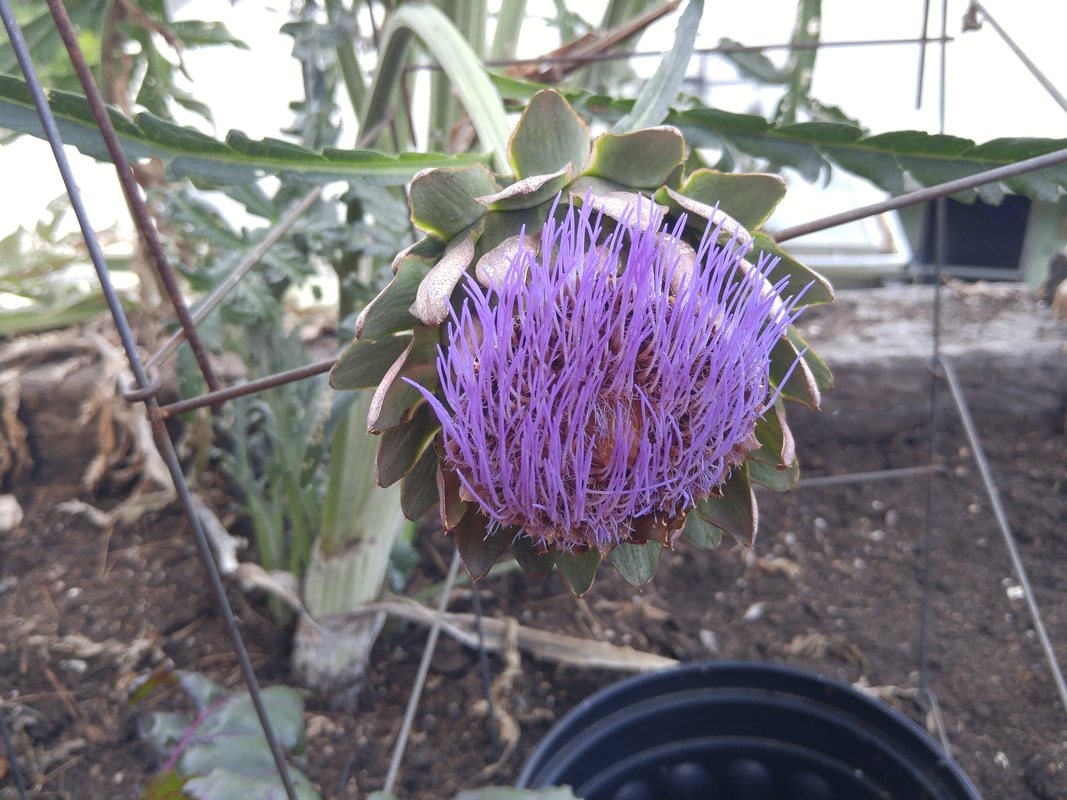thistle: (409, 207, 802, 570)
